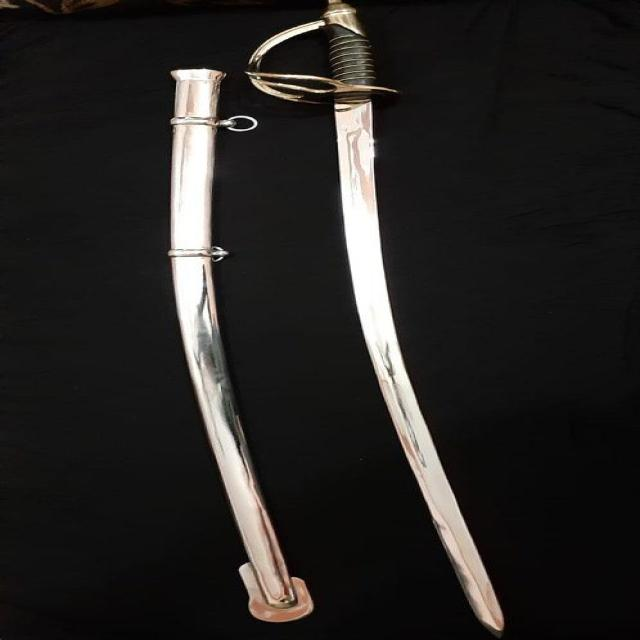weapon: (234, 4, 519, 635)
